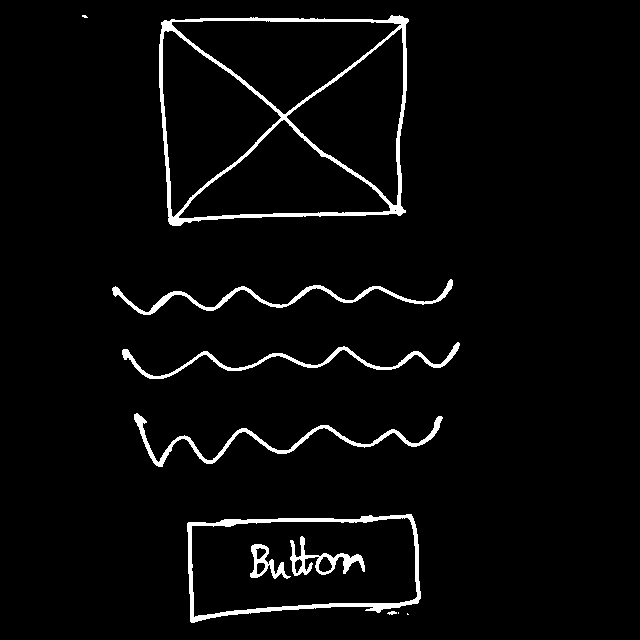button: (169, 513, 429, 620)
image: (159, 15, 411, 222)
paragraph: (105, 277, 451, 458)
